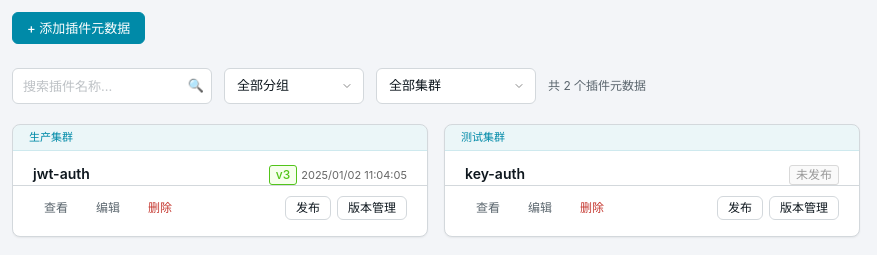
Test case: PluginMetadataList.vue › does not conditionally display count on group filter — always uses totalCount from server
The image size is (877, 255).
Select "线上" in the 1st dropdown at (294, 86), box [224,68,364,104]
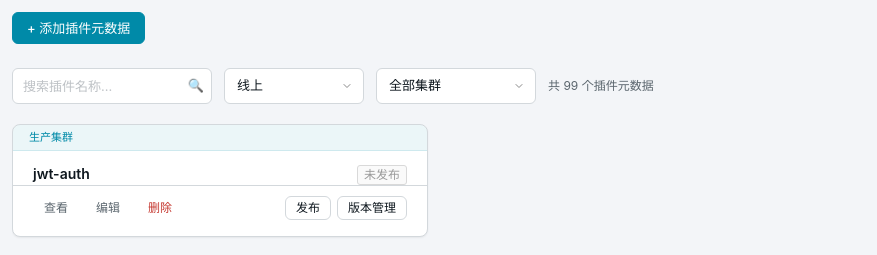
Expected: the text "共 99 个插件元数据" is shown, [548,77,654,95]
